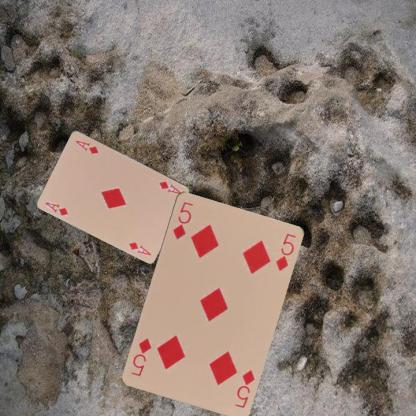5d: (232, 367, 256, 409), (170, 199, 194, 240)
Ad: (156, 178, 183, 196), (43, 199, 70, 217)
